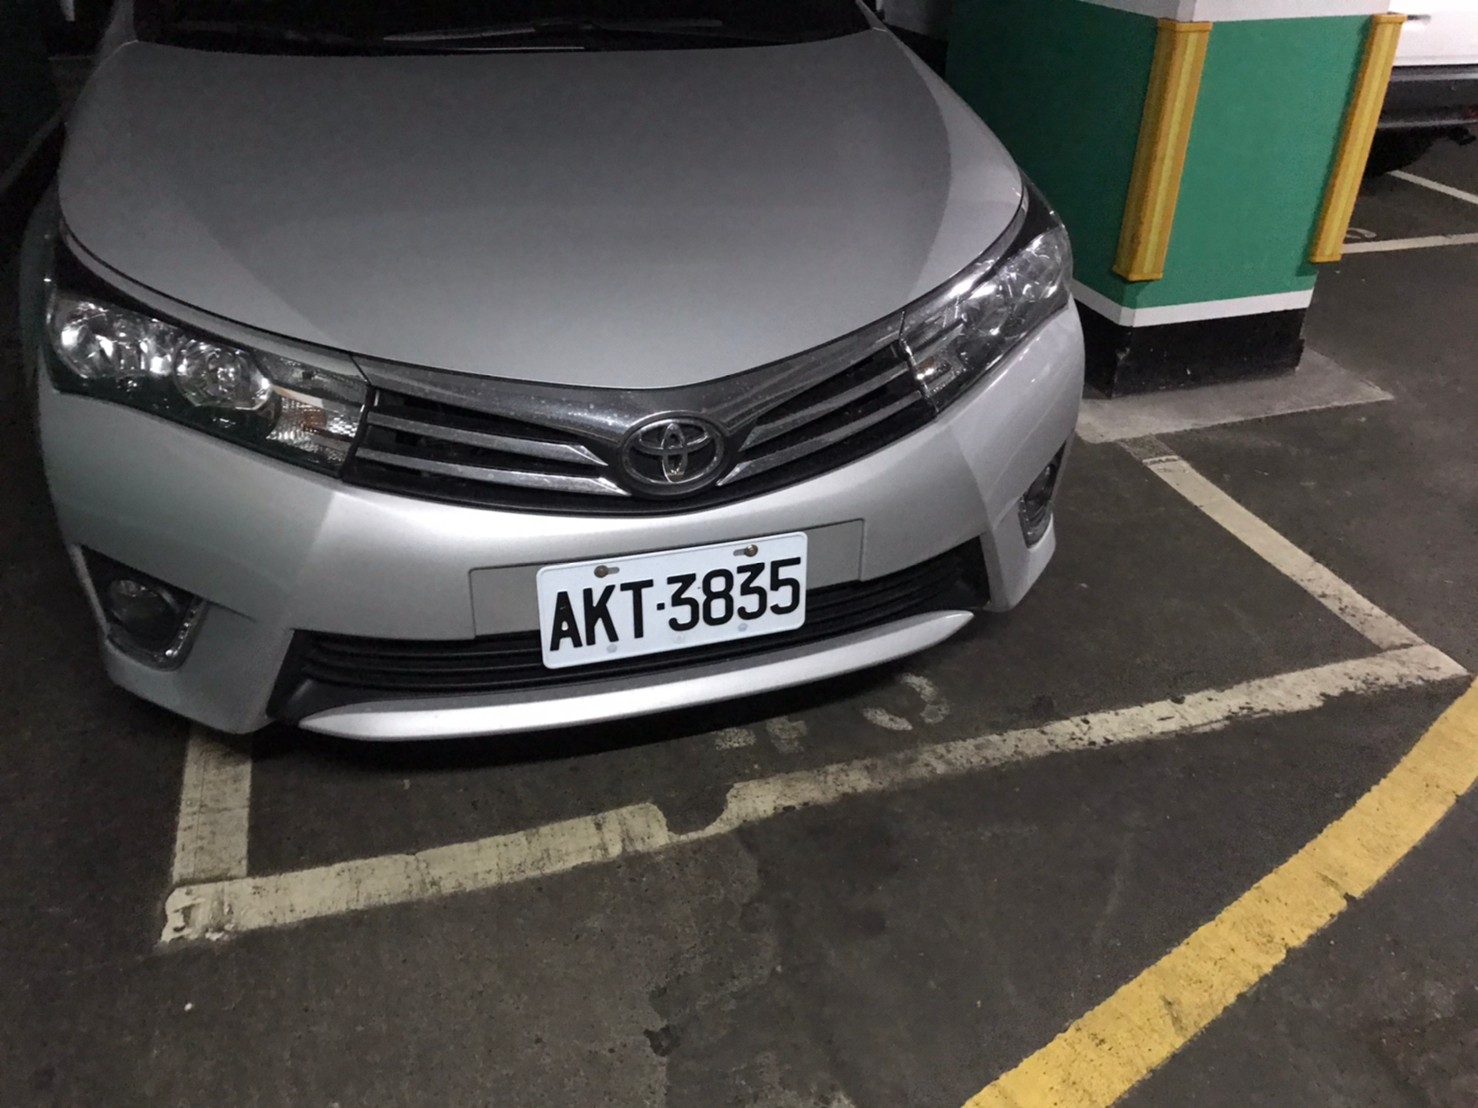LP: (541, 544, 806, 658)
